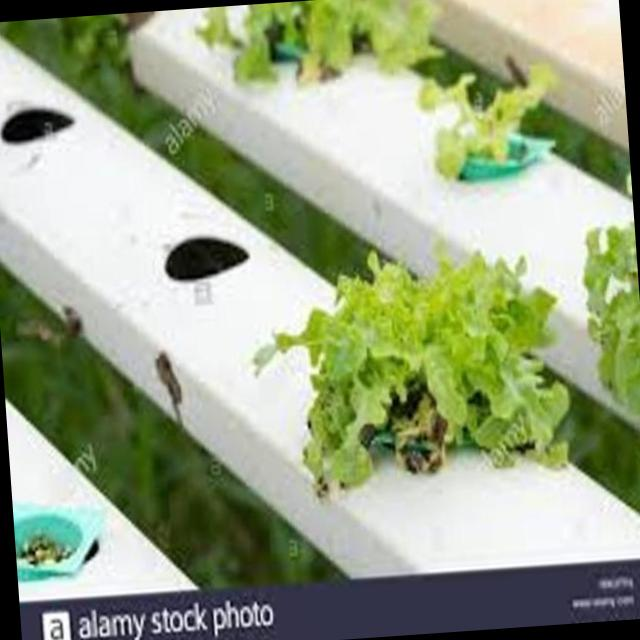Lettuce-Ready-to-Harvest: (262, 254, 568, 489), (200, 0, 441, 82), (419, 66, 547, 179), (584, 223, 640, 412)
